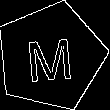M_N: (25, 30, 77, 84)
